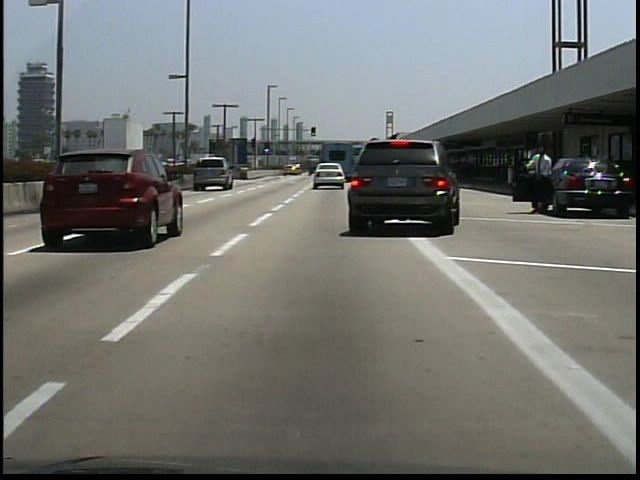person: (520, 143, 554, 218)
